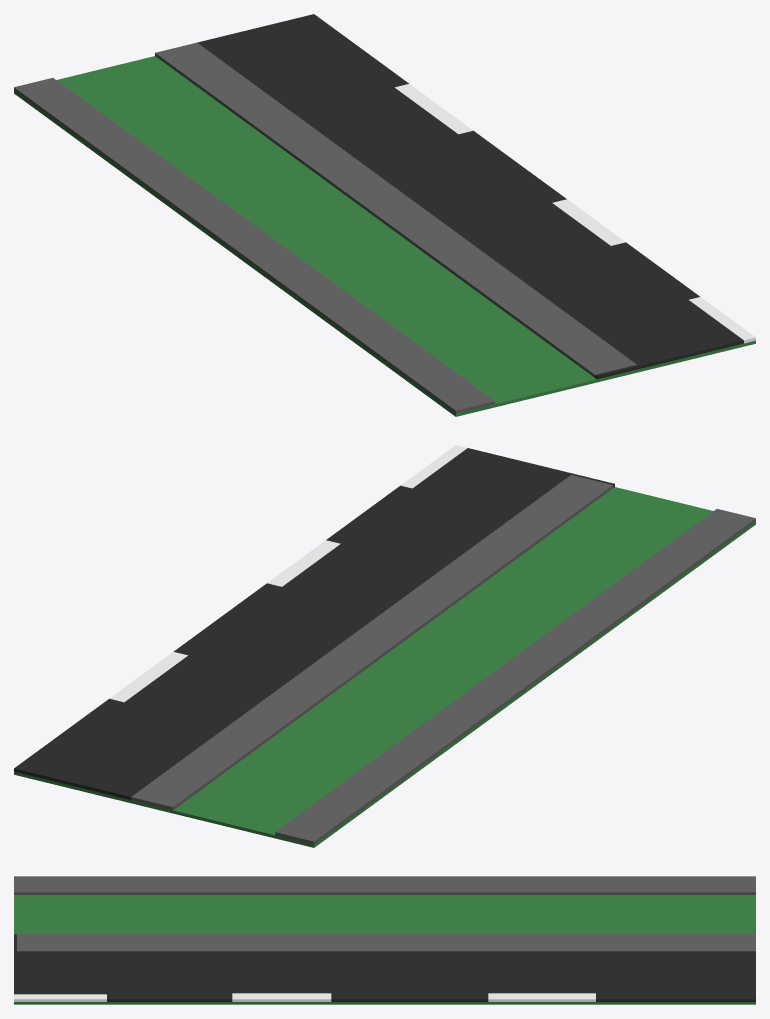
File: RoadRight-0-Road1.obj
3 views of the same model, one above another, from view 1: azimuth 30°, elevation 25°; view 2: azimuth 150°, elevation 25°; view 3: azimuth 270°, elevation 25° (orthographic). The views are drawn at different scales.
Visible parts, largest first — view 1: Road1; view 2: Road1; view 3: Road1.
Boxes of the visible parts, <box> form: Road1: <box>14,14,755,416</box>; Road1: <box>14,445,755,847</box>; Road1: <box>14,876,755,1004</box>.
Bounding box in the file's own units: 10 × 0.2 × 25.5.
Materials: 1 (1 with a texture image).
